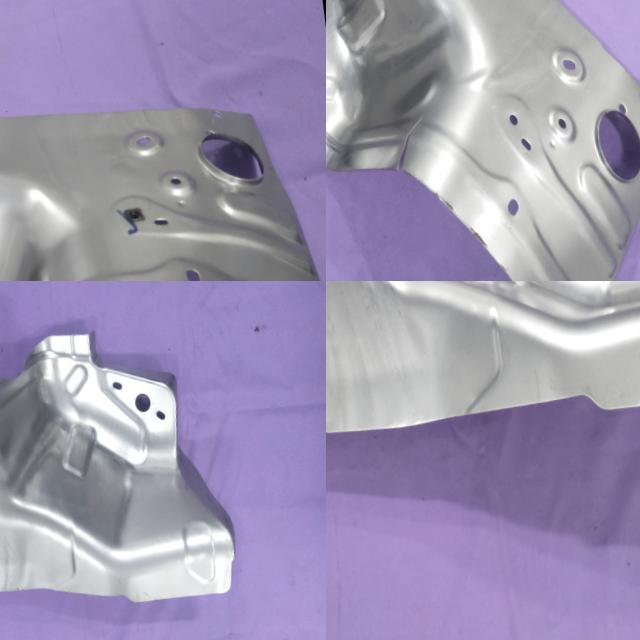Defect: (373, 106, 438, 176), (0, 345, 48, 391)
Healthy: (0, 35, 326, 281), (326, 281, 640, 466)
rust: (428, 173, 504, 260)
